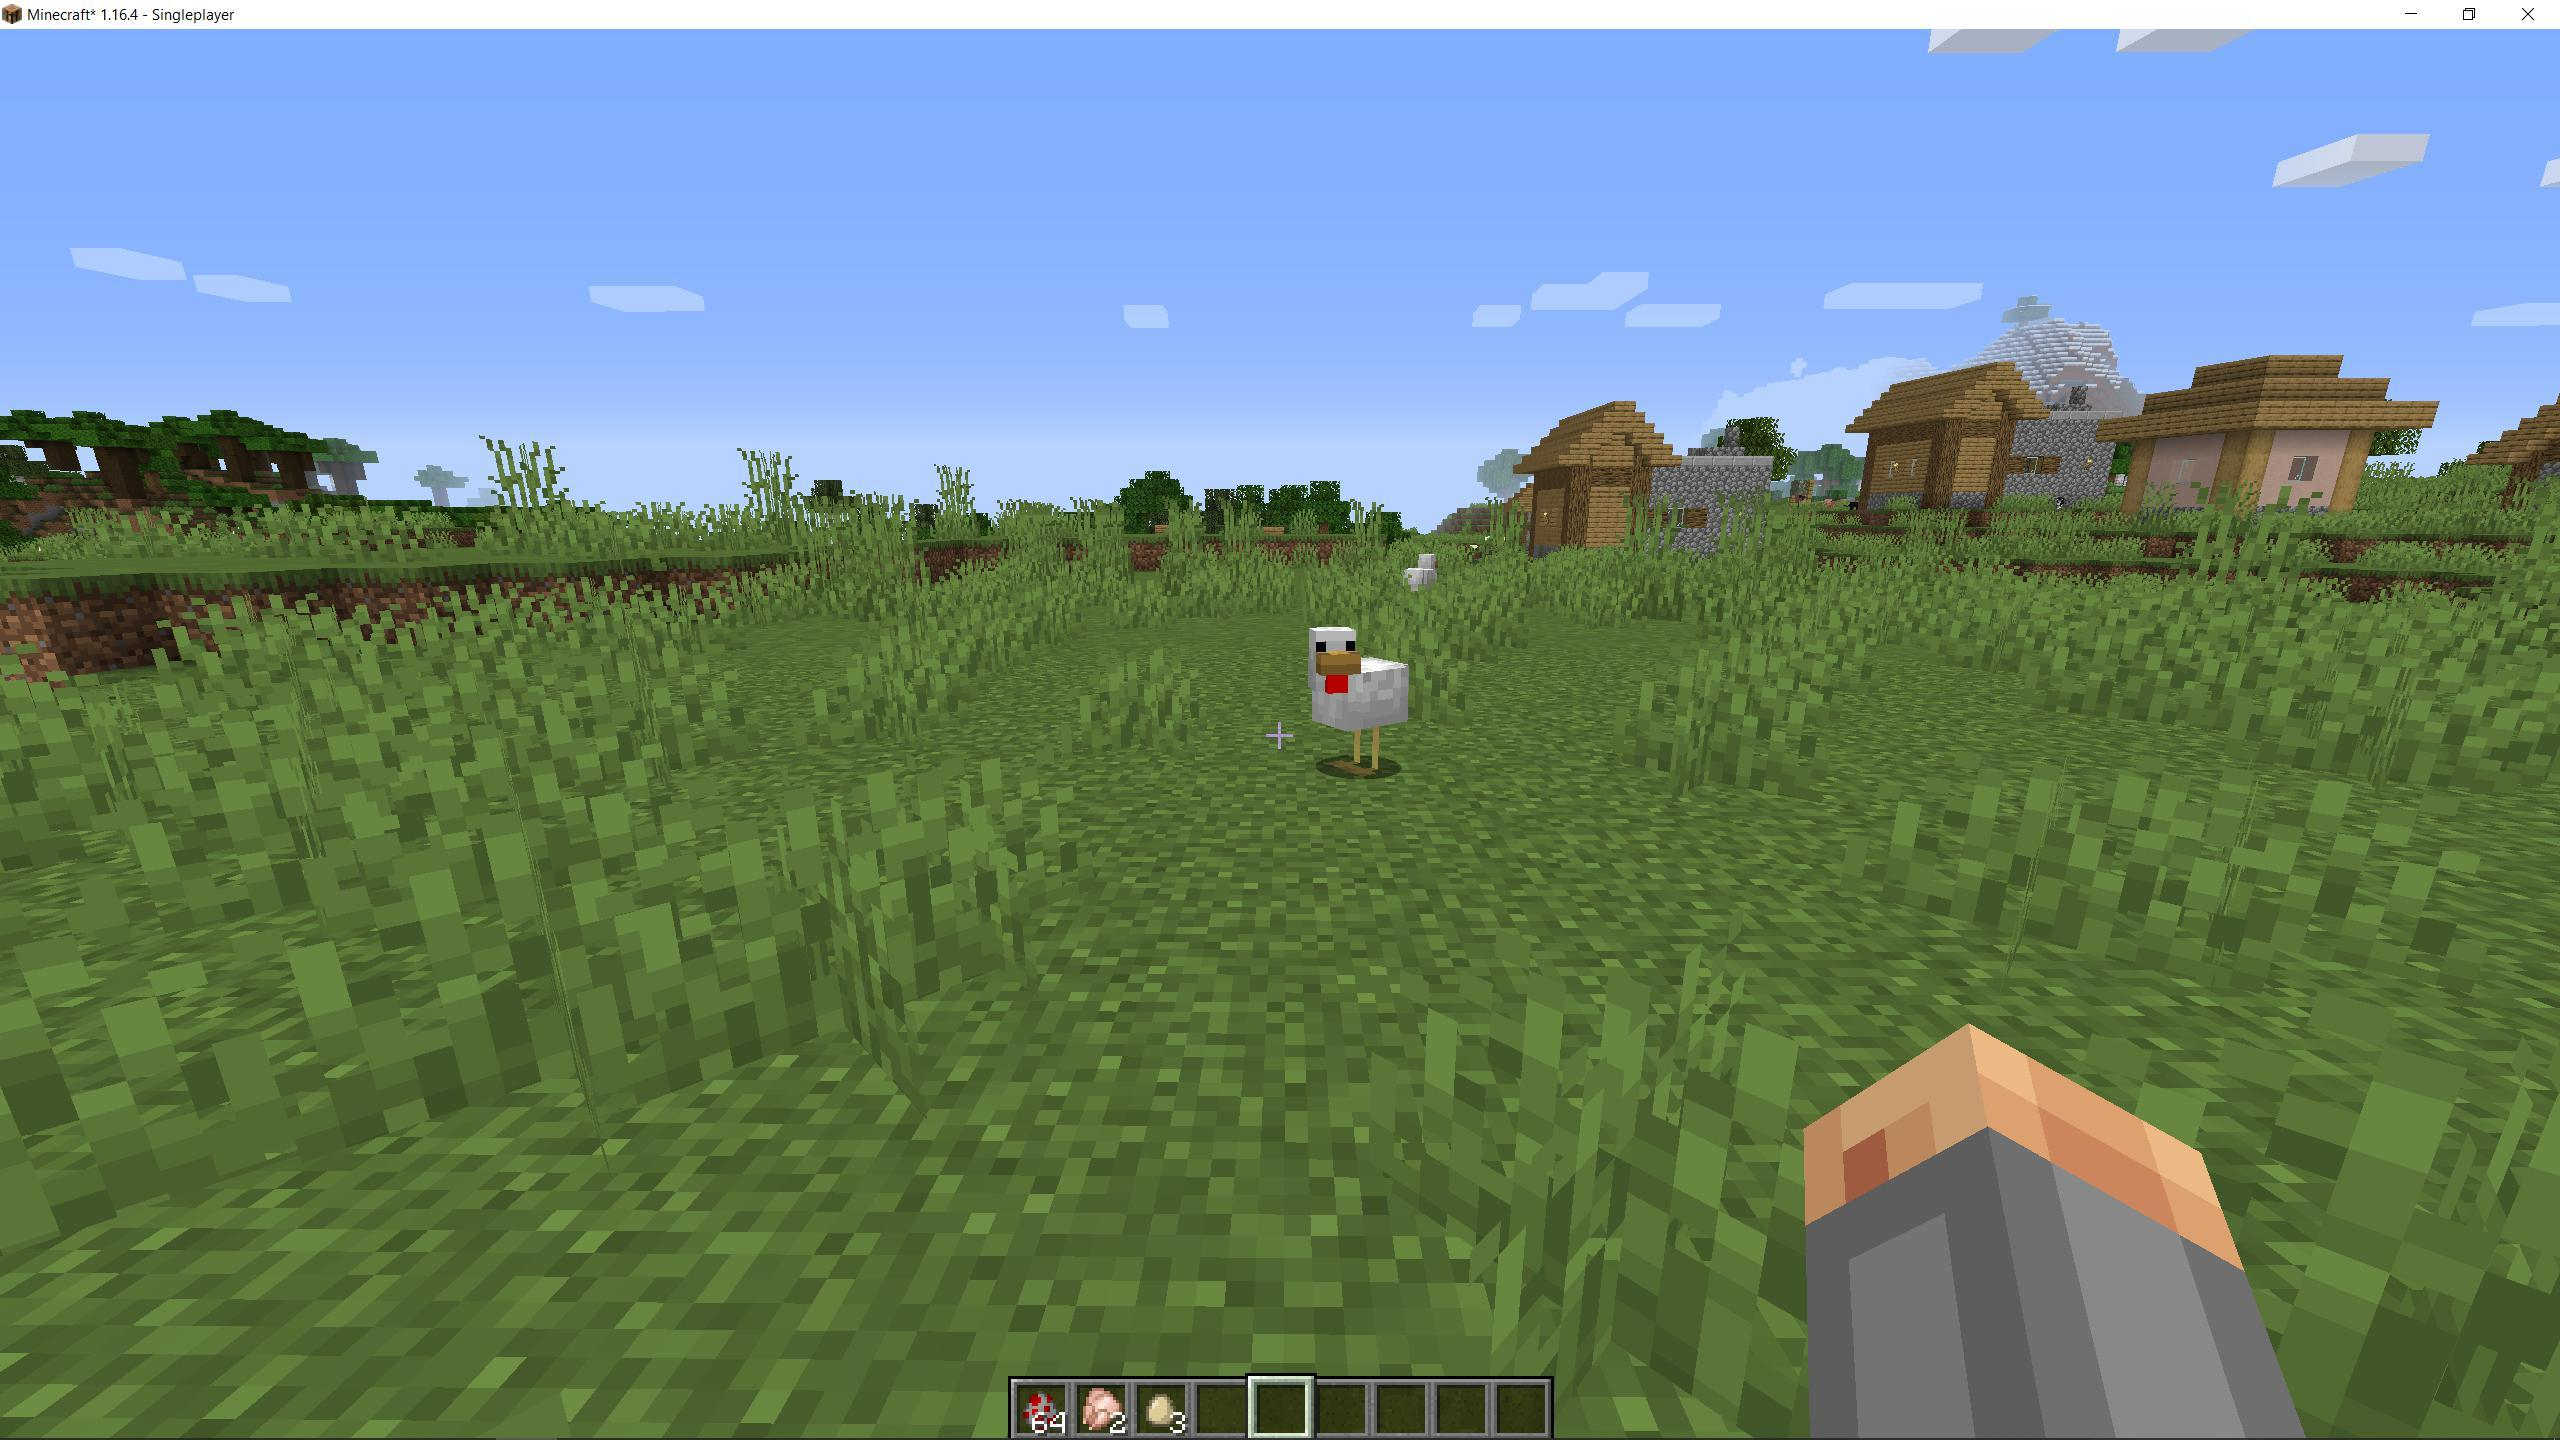chicken: (1298, 621, 1435, 788), (1389, 549, 1458, 615)
